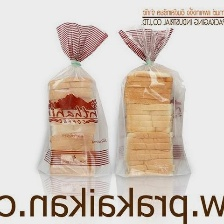snack: (30, 14, 119, 184), (109, 20, 196, 183)
